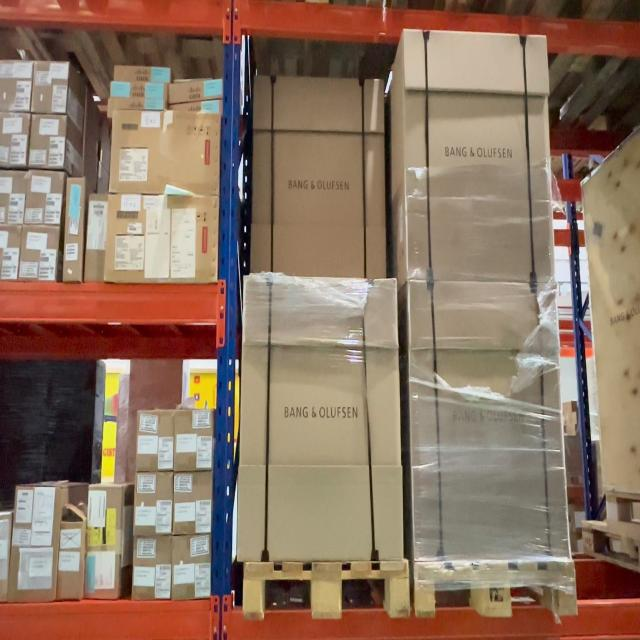box: (246, 275, 399, 559), (410, 282, 558, 556), (409, 38, 548, 274), (257, 72, 388, 279)
